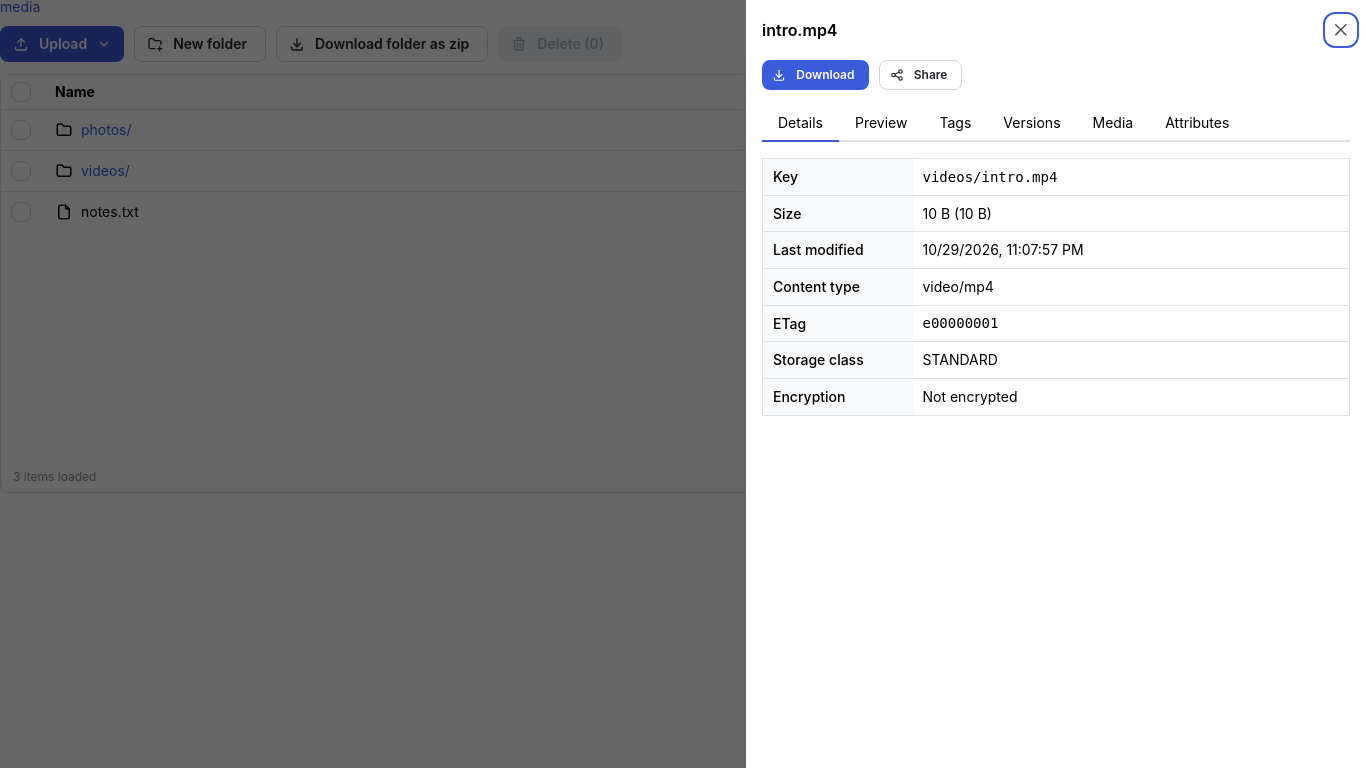
it: ObjectMediaPanel › shows the failure, the stale outputs and the poster
Step 1. Click the tab "Media" → (1113, 124), box [1076,106,1149,142]
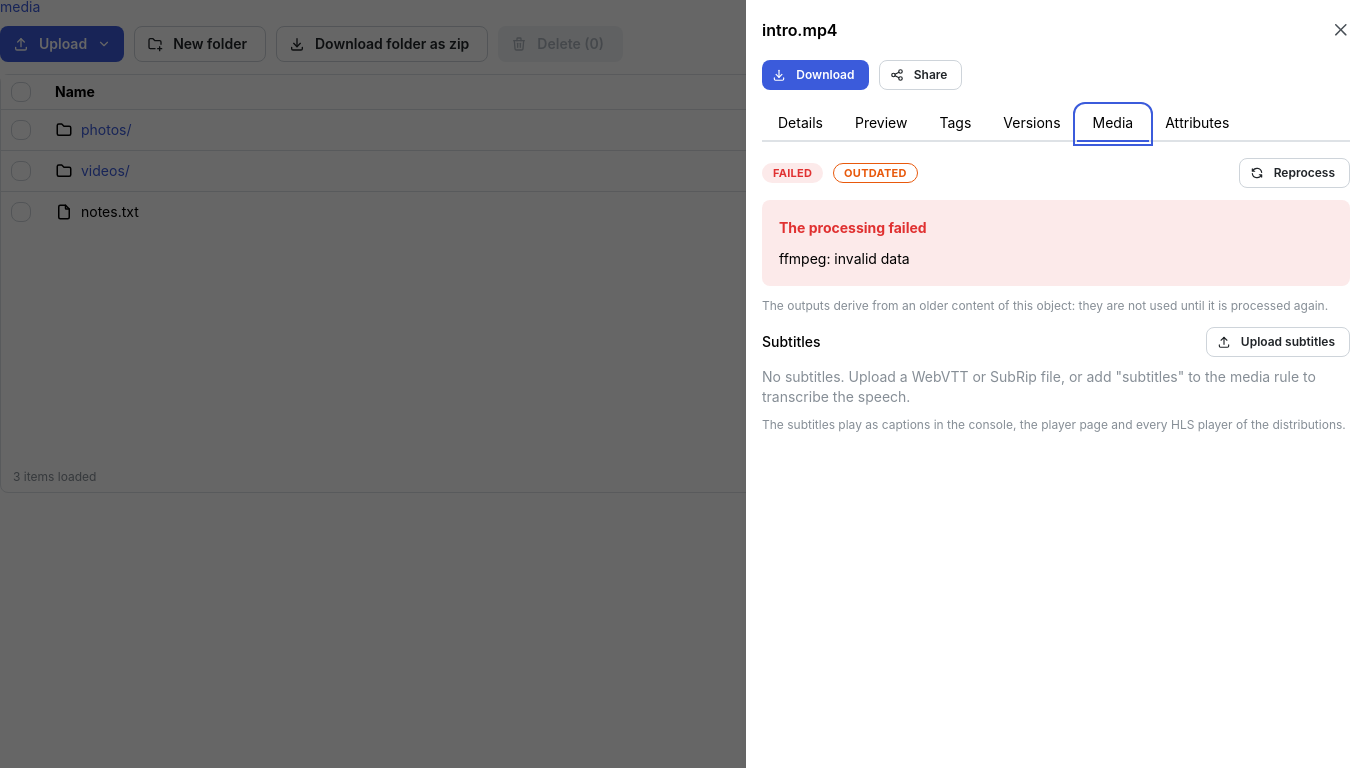
Expected: the text "Failed" is shown, [773,164,812,182]
Expected: the text "Outdated" is shown, [844,164,907,182]
Expected: the text "ffmpeg: invalid data" is shown, [779,250,910,267]
